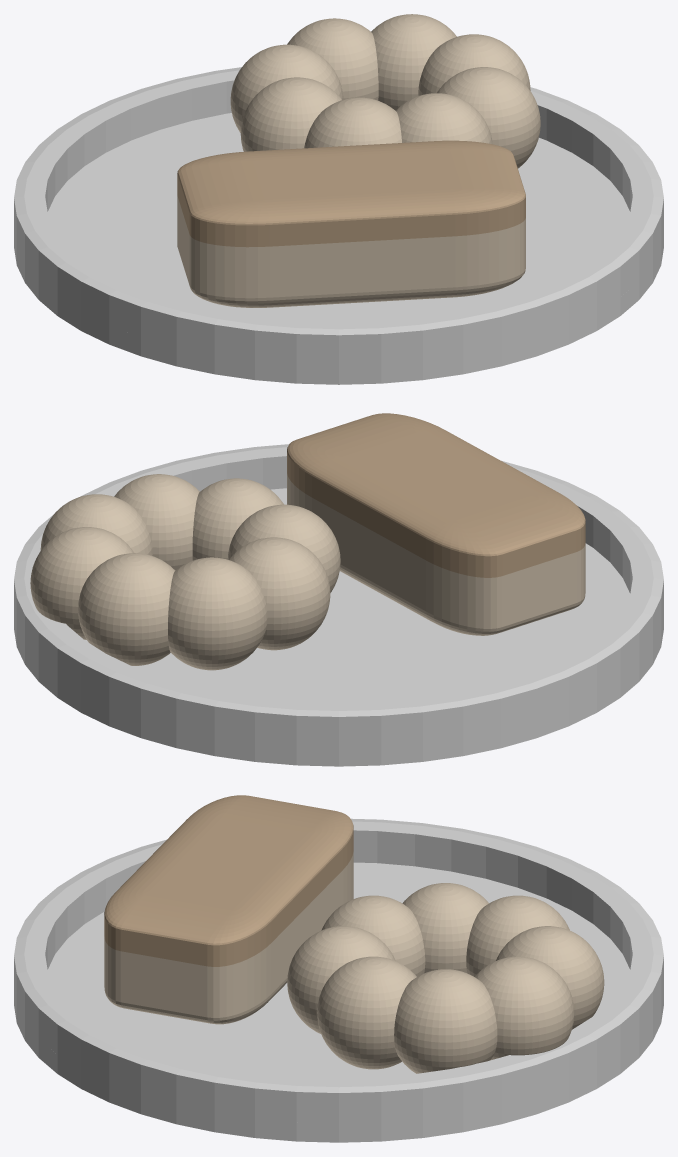
File: Evie - Donuts.glb
3 renders of one model, top to bottom at view 1: azimuth 30°, elevation 25°; view 2: azimuth 150°, elevation 25°; view 3: azimuth 270°, elevation 25°, orthographic.
Visible parts, largest first — view 1: Mesh_Mesh_head_geo.001_lambert2SG.001; view 2: Mesh_Mesh_head_geo.001_lambert2SG.001; view 3: Mesh_Mesh_head_geo.001_lambert2SG.001.
Part boxes in pixels (bbox=[...]): Mesh_Mesh_head_geo.001_lambert2SG.001: bbox=[14, 14, 663, 384]; Mesh_Mesh_head_geo.001_lambert2SG.001: bbox=[14, 413, 663, 766]; Mesh_Mesh_head_geo.001_lambert2SG.001: bbox=[14, 795, 663, 1142].
Bounding box in the file's own units: 0.115 × 0.024 × 0.115.
